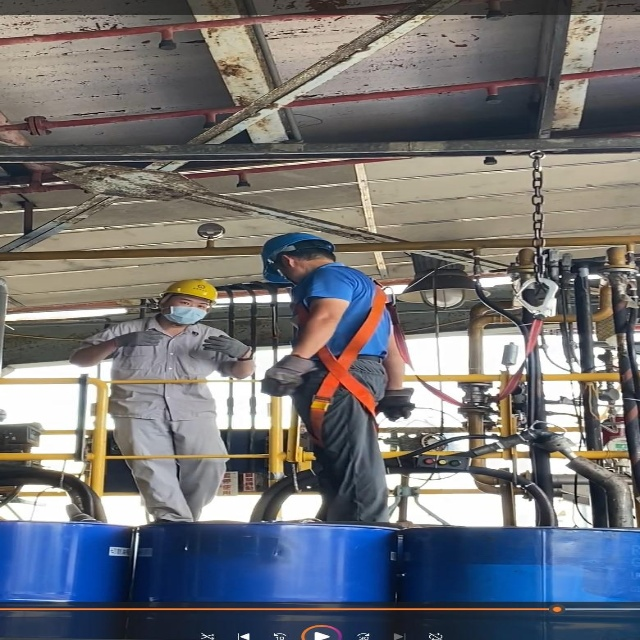Arnes_seguridad: (299, 275, 392, 450)
